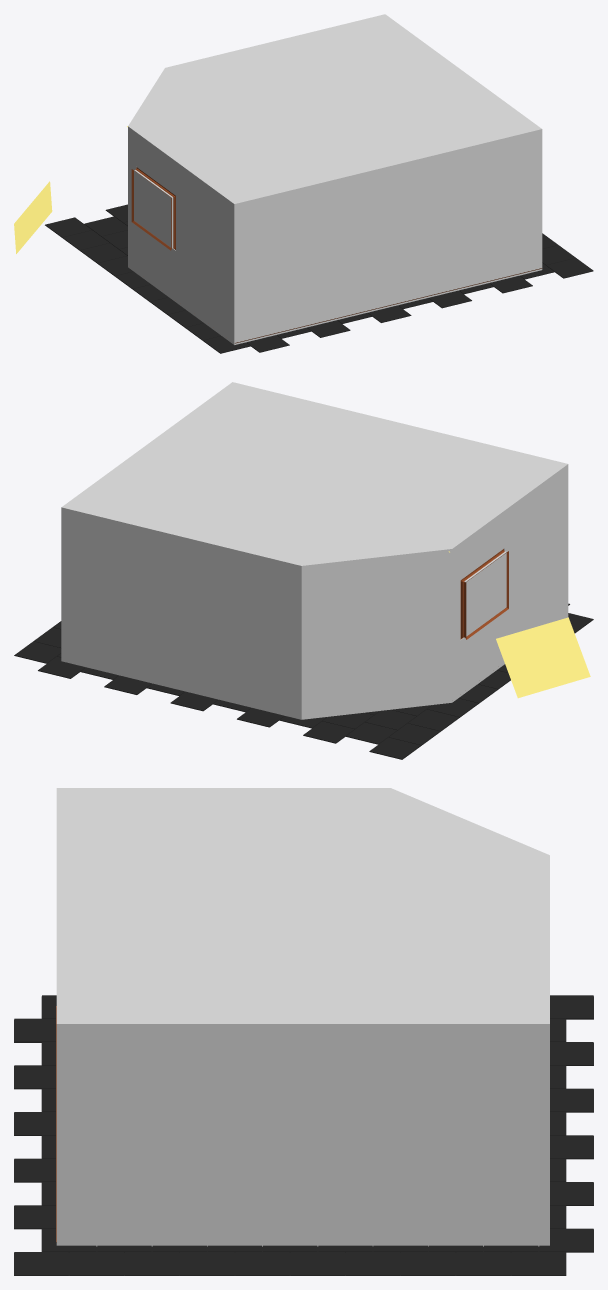
The model's file is DevRoom.glb.
3 views of the same model, one above another, from view 1: azimuth 30°, elevation 25°; view 2: azimuth 150°, elevation 25°; view 3: azimuth 270°, elevation 25° (orthographic). The views are drawn at different scales.
Parts seen in each view (by area): view 1: Plane.002, Cube, Plane.003, externalLight; view 2: Plane.002, Cube, externalLight, Plane.003; view 3: Plane.002, Cube.
Boxes of the visible parts, x1,y1,x2,y2 form: Plane.002: (128,14,542,344); Cube: (45,204,593,353); Plane.003: (134,170,173,248); externalLight: (14,181,52,253); Plane.002: (61,382,568,719); Cube: (14,603,593,759); externalLight: (496,617,590,698); Plane.003: (464,551,506,636); Plane.002: (56,788,549,1246); Cube: (14,995,593,1275).
Size of the model in its own units: 4.47 by 1.3 by 3.07.
